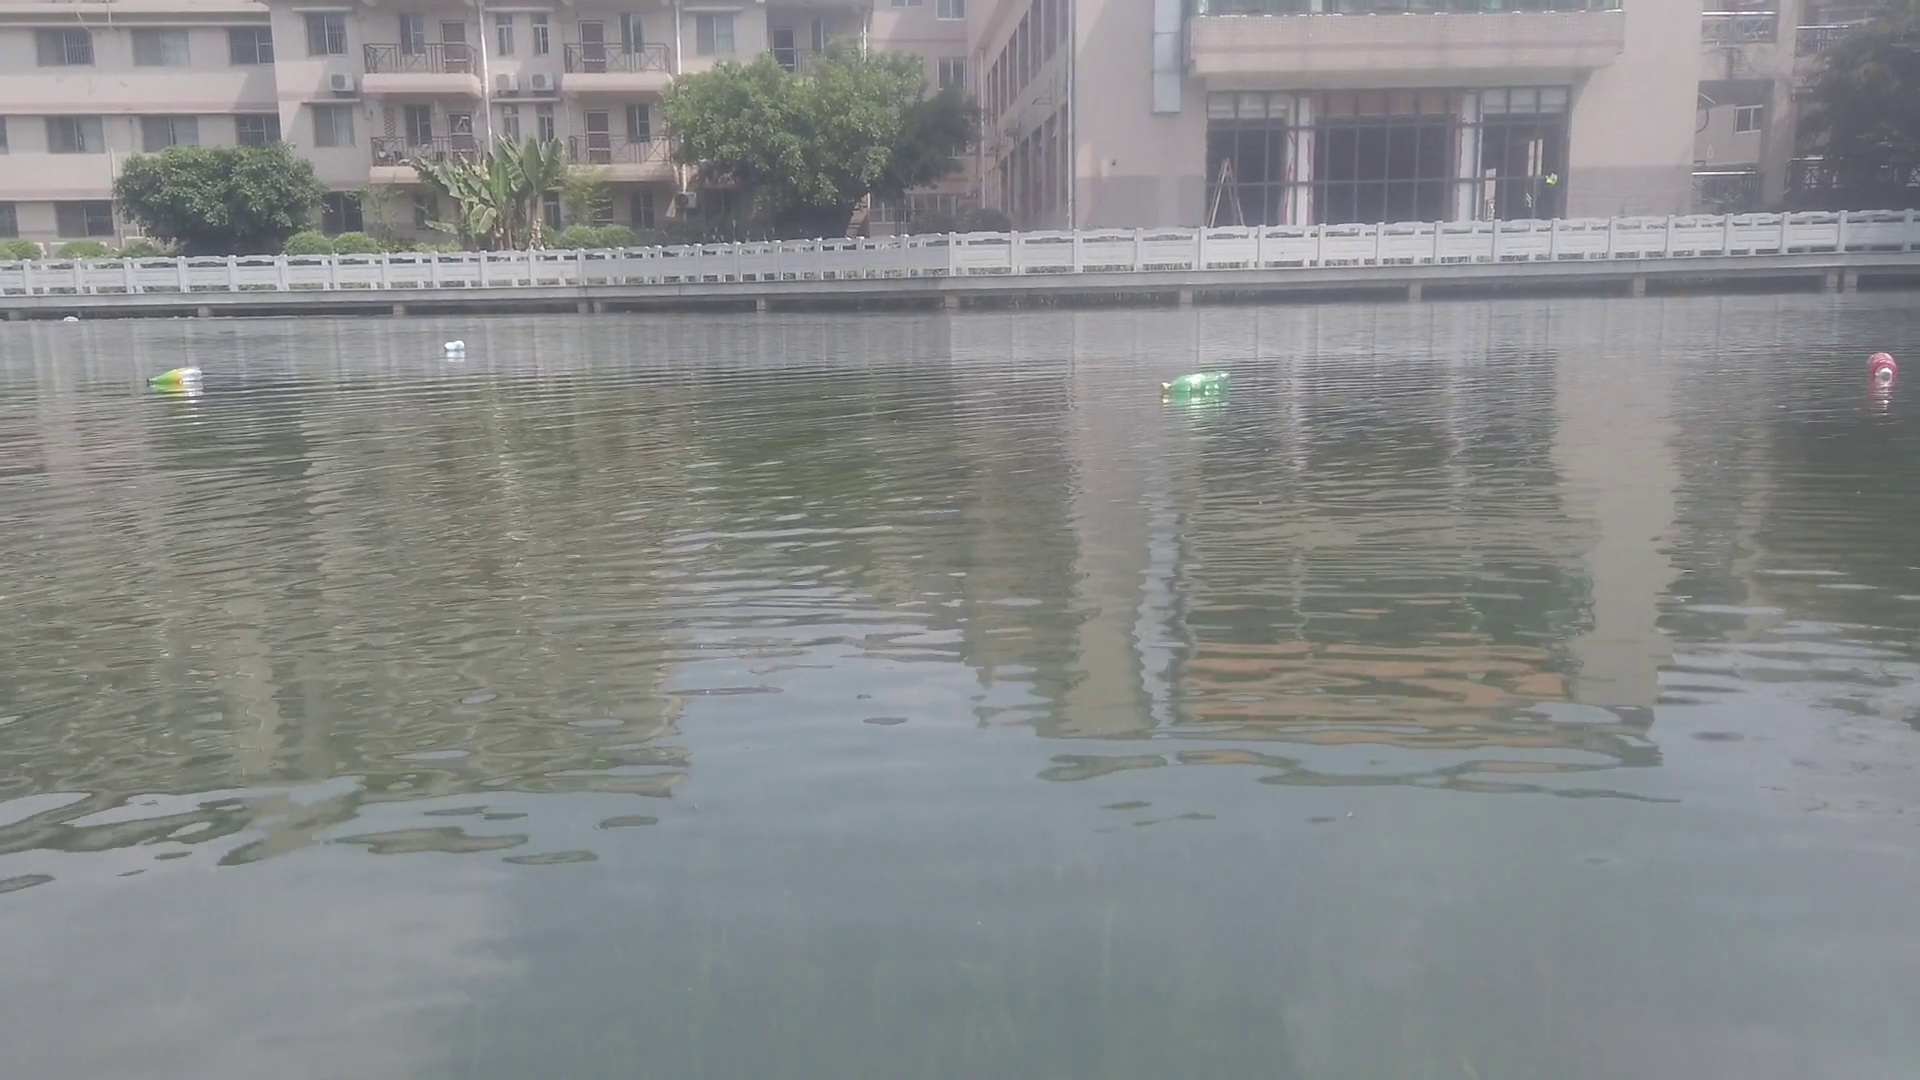bottle: (1163, 371, 1236, 392), (144, 363, 203, 382), (1869, 349, 1896, 382), (442, 338, 464, 351)
plastic: (59, 314, 76, 323)
